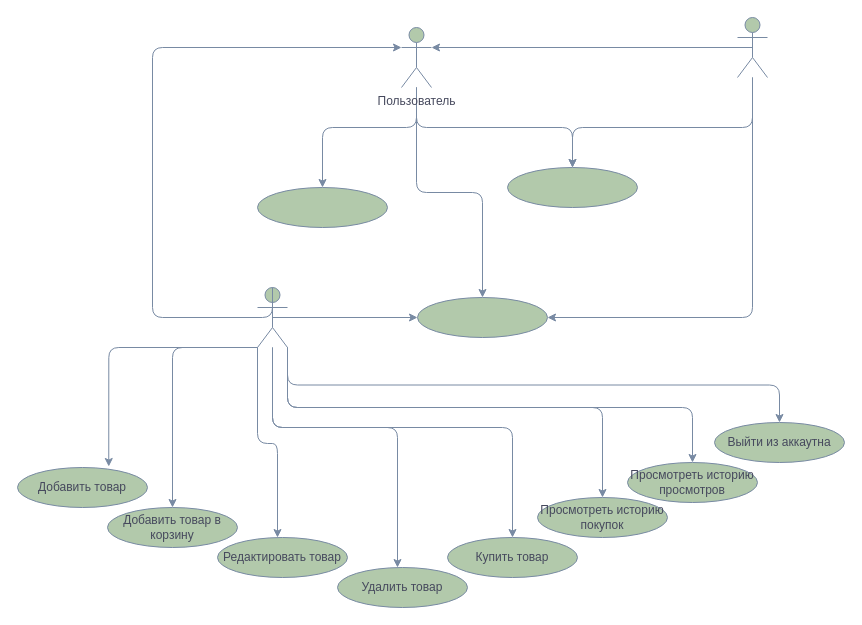
This 862x625 diagram has some shape labels left out. Here are the shapes that lost their labels. From the top down, the centre of each, then its label:
At (x=752, y=47): "Посетитель".
At (x=322, y=207): "Войти в аккаунт".
At (x=572, y=187): "Зарегистрироваться".
At (x=272, y=317): "Зарегистрированный пользователь".
At (x=482, y=317): "Просмотр и поиск товаров".
